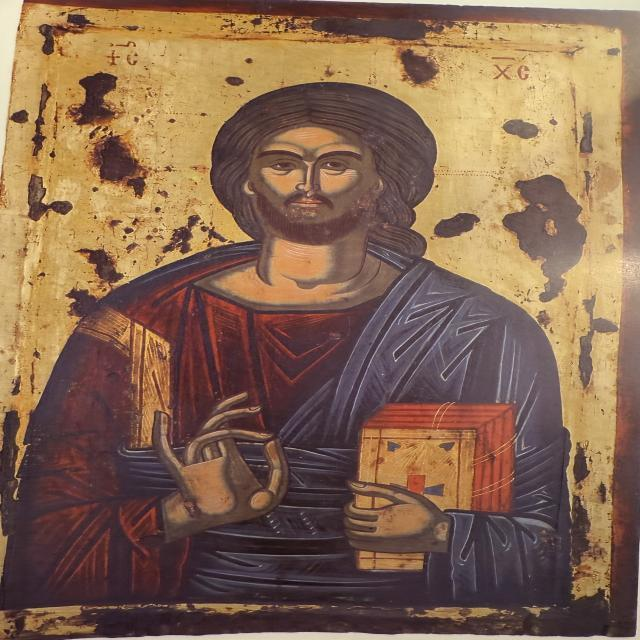book: (331, 392, 523, 582)
christ: (23, 18, 593, 608)
christ_hand: (119, 385, 309, 546)
